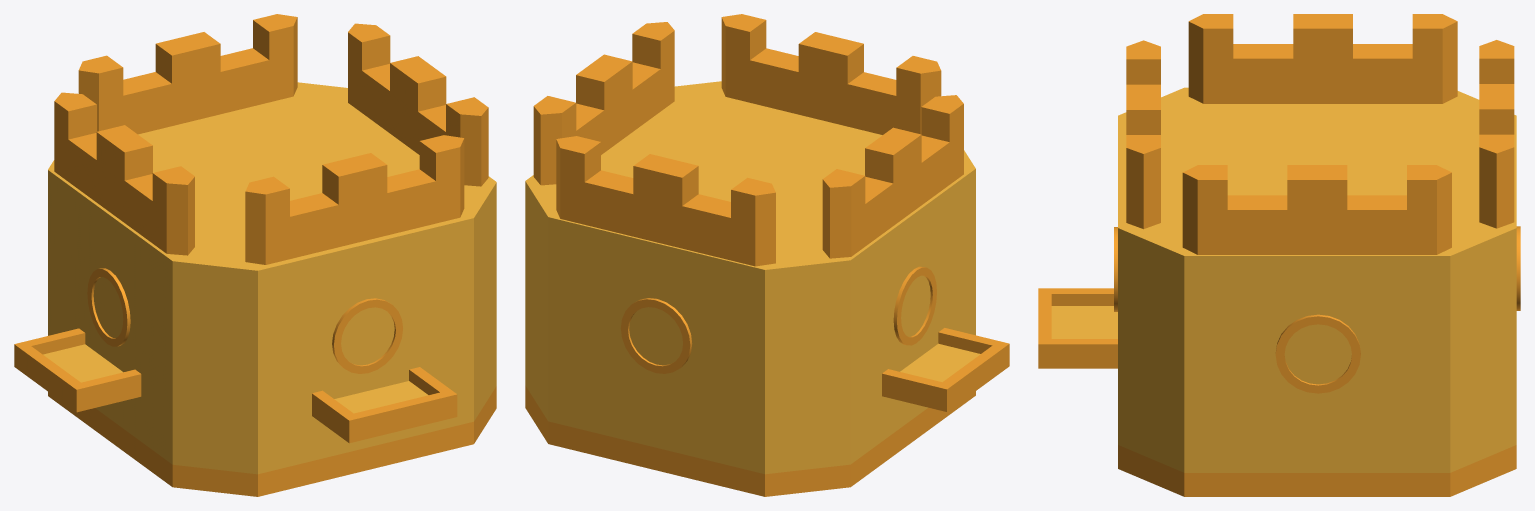
Rendered from m_roof-pillars.fbx.
3 views of the same model, side by side, from view 1: azimuth 30°, elevation 25°; view 2: azimuth 150°, elevation 25°; view 3: azimuth 270°, elevation 25° (orthographic). The views are drawn at different scales.
Visible parts, largest first — view 1: mergedBlocks; view 2: mergedBlocks; view 3: mergedBlocks.
Boxes of the visible parts, left/top/right/bottom form: mergedBlocks: left=14, top=14, right=496, bottom=496; mergedBlocks: left=525, top=14, right=1009, bottom=496; mergedBlocks: left=1038, top=14, right=1520, bottom=496.
Size of the model in its own units: 36.3 by 26.24 by 36.3.
